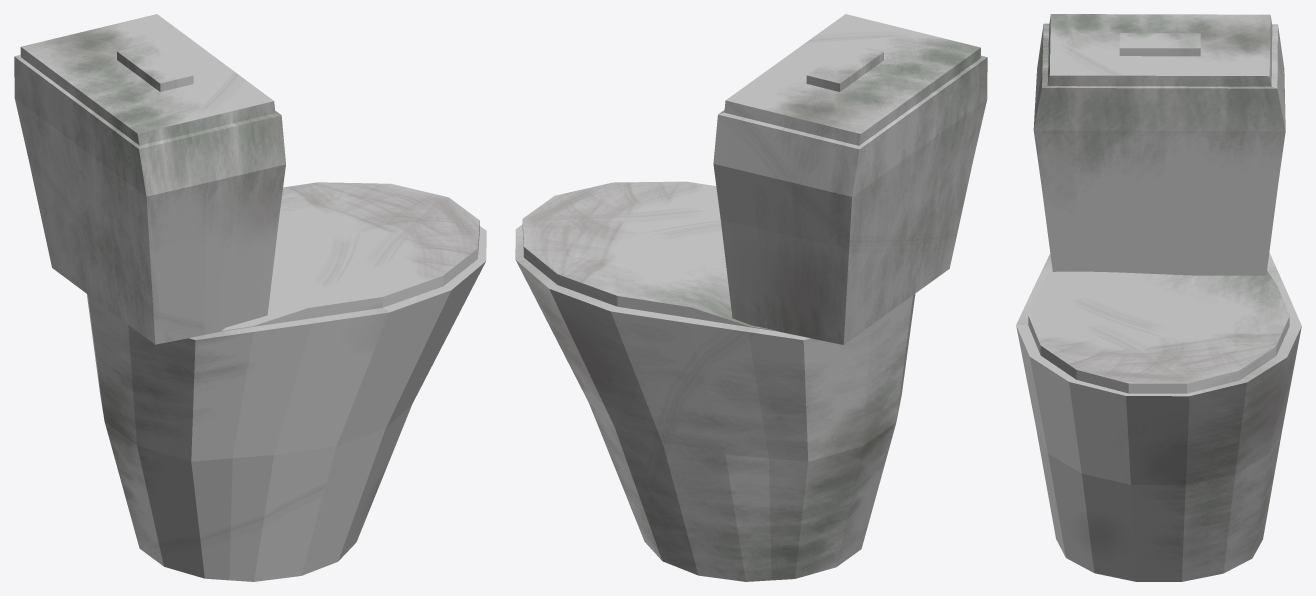
File: small toilet.fbx
The picture shows the model from 3 angles, left to right: view 1: azimuth 30°, elevation 25°; view 2: azimuth 150°, elevation 25°; view 3: azimuth 270°, elevation 25°; orthographic projection. The views are drawn at different scales.
Visible parts, largest first — view 1: toilet.001; view 2: toilet.001; view 3: toilet.001.
Part boxes in pixels (x1,y1,x2,y2): toilet.001: (14,14,486,581); toilet.001: (515,14,987,581); toilet.001: (1016,14,1301,581).
Bounding box in the file's own units: 125 × 150 × 85.01.
